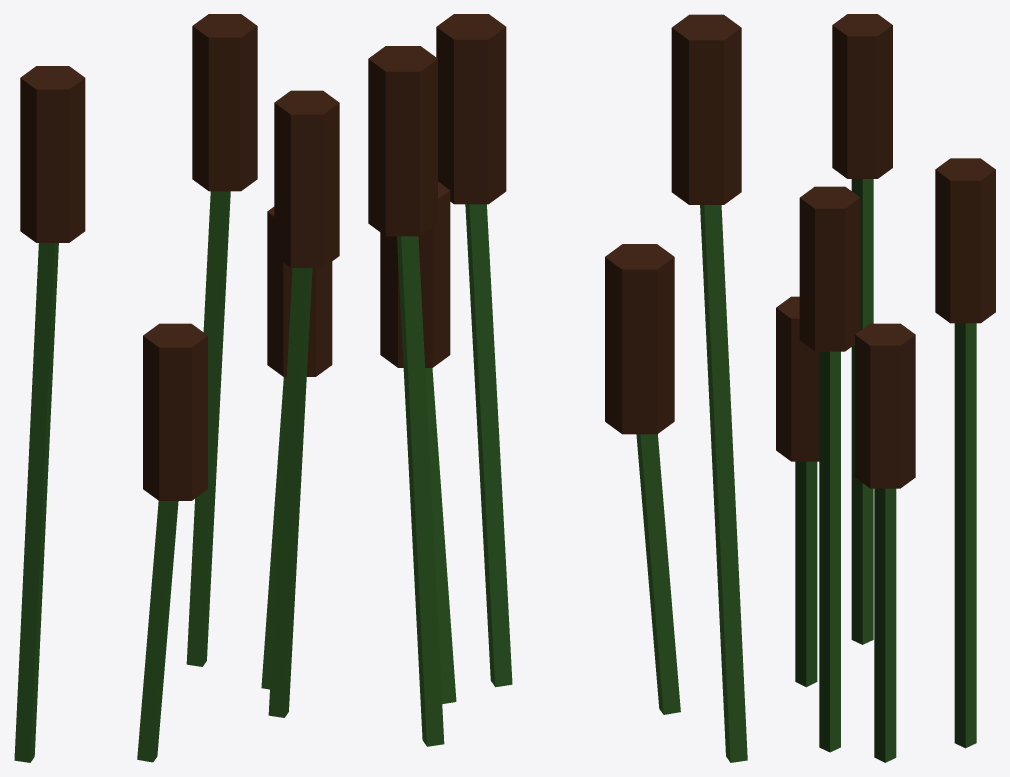
The model's file is Reeds.fbx.
The picture shows the model from 3 angles, left to right: view 1: azimuth 30°, elevation 25°; view 2: azimuth 150°, elevation 25°; view 3: azimuth 270°, elevation 25°; orthographic projection. The views are drawn at different scales.
Parts seen in each view (by area): view 1: Reeds_Mesh; view 2: Reeds_Mesh; view 3: Reeds_Mesh.
Boxes of the visible parts, x1,y1,x2,y2 form: Reeds_Mesh: (14,14,339,762); Reeds_Mesh: (368,14,747,762); Reeds_Mesh: (776,14,995,762).
Size of the model in its own units: 0.2854 by 0.5719 by 0.1813.
